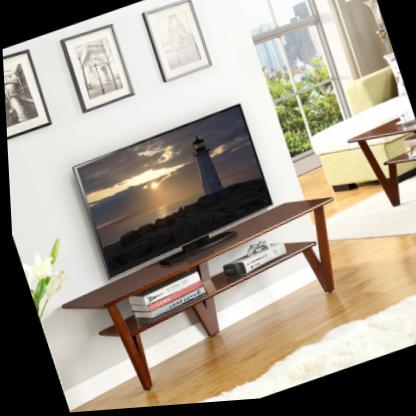Frame: (59, 25, 133, 114), (142, 0, 212, 84), (2, 49, 50, 139)
Lamp: (333, 0, 393, 68)
TV stand: (51, 187, 371, 409)
Window: (228, 0, 354, 150)
